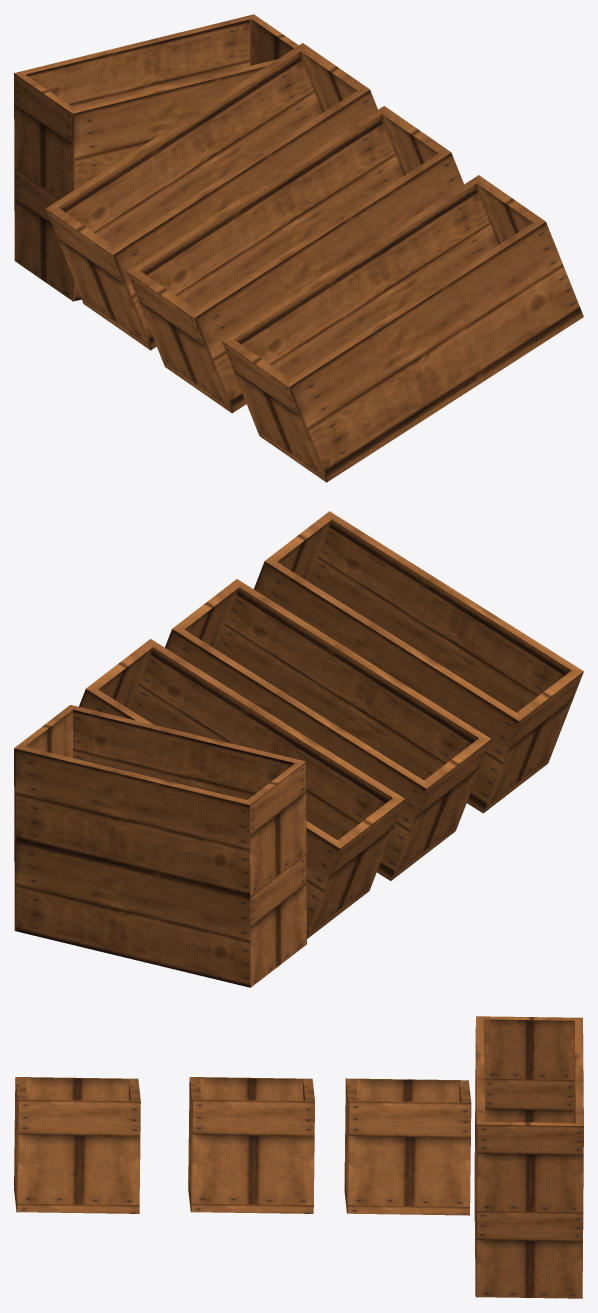
File: wood_box.fbx
3 views of the same model, one above another, from view 1: azimuth 30°, elevation 25°; view 2: azimuth 150°, elevation 25°; view 3: azimuth 270°, elevation 25° (orthographic). The views are drawn at different scales.
Visible parts, largest first — view 1: pCube4, pCube3, jim_bike:pCube3, jim_bike:pCube4; view 2: jim_bike:pCube4, pCube4, pCube3, jim_bike:pCube3; view 3: jim_bike:pCube4, jim_bike:pCube3, pCube3, pCube4.
Part boxes in pixels (x1,y1,x2,y2): pCube4: (221,175,583,482); pCube3: (127,106,463,413); jim_bike:pCube3: (45,43,377,350); jim_bike:pCube4: (14,14,298,301); jim_bike:pCube4: (14,705,306,987); pCube4: (254,511,583,813); pCube3: (165,579,491,880); jim_bike:pCube3: (79,639,404,938); jim_bike:pCube4: (474,1016,583,1298); jim_bike:pCube3: (344,1078,471,1215); pCube3: (188,1077,314,1213); pCube4: (14,1077,140,1213).
Size of the model in its own units: 19.07 by 12.68 by 34.08.
